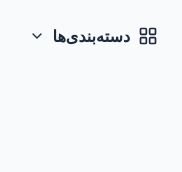
Scenario: CategoriesMenu › from lg: a click opens it, the focus kept on its button
The image size is (182, 172).
Step 1. Click the button "دسته‌بندی‌ها" → (93, 36), box [16, 12, 170, 60]
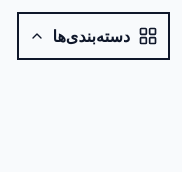
Check: the button "دسته‌بندی‌ها" is expanded, box [16, 12, 170, 60]
